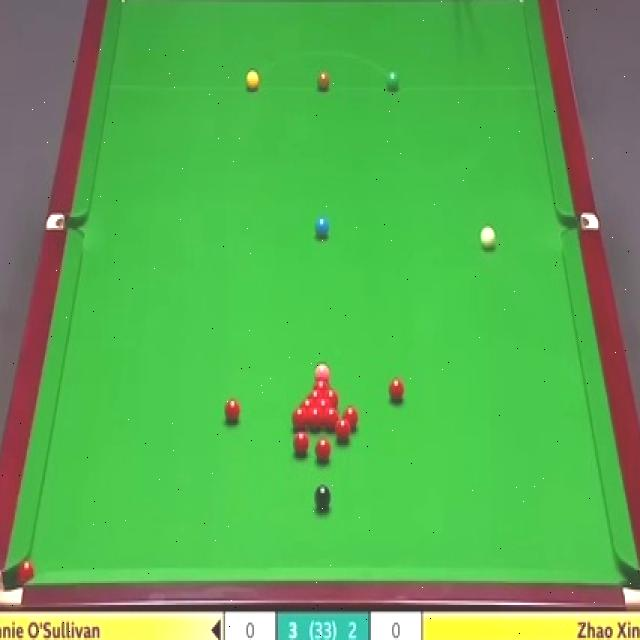black-ball: (315, 484, 332, 512)
blue-ball: (315, 217, 329, 238)
brown-ball: (316, 71, 330, 92)
green-ball: (385, 70, 400, 92)
pink-ball: (314, 362, 329, 376)
red-ball: (223, 399, 241, 426), (293, 431, 311, 456), (15, 559, 34, 582), (388, 378, 404, 405), (315, 437, 331, 463), (342, 406, 358, 431), (291, 406, 307, 430), (335, 419, 350, 444), (324, 407, 339, 432), (308, 406, 322, 429), (324, 388, 339, 406), (311, 377, 330, 388), (299, 398, 315, 408), (307, 388, 323, 398), (315, 398, 332, 407)
white-ball: (480, 220, 498, 250)
yellow-ball: (244, 71, 258, 91)
